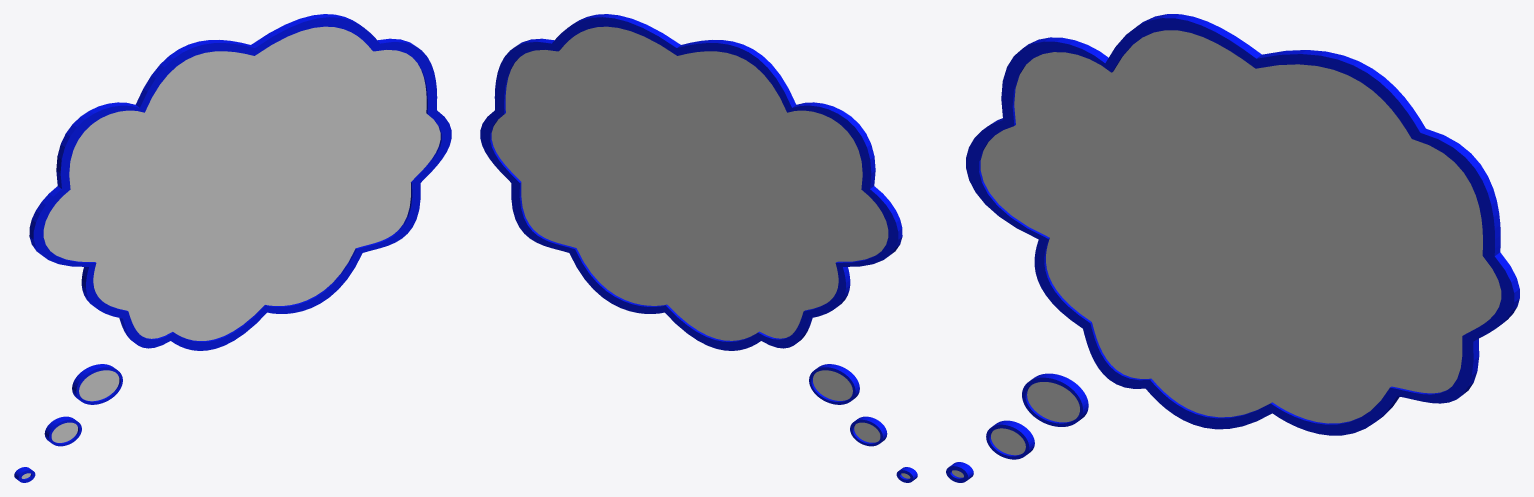
The model's file is ThinkingBalloon.fbx.
The picture shows the model from 3 angles, left to right: view 1: azimuth 30°, elevation 25°; view 2: azimuth 150°, elevation 25°; view 3: azimuth 330°, elevation 25°; orthographic projection. The views are drawn at different scales.
Parts seen in each view (by area): view 1: Thinking balloon; view 2: Thinking balloon; view 3: Thinking balloon.
Boxes of the visible parts, x1,y1,x2,y2 form: Thinking balloon: [14, 14, 451, 482]; Thinking balloon: [480, 14, 917, 482]; Thinking balloon: [946, 14, 1519, 482].
Bounding box in the file's own units: 398 × 347 × 6.84.
